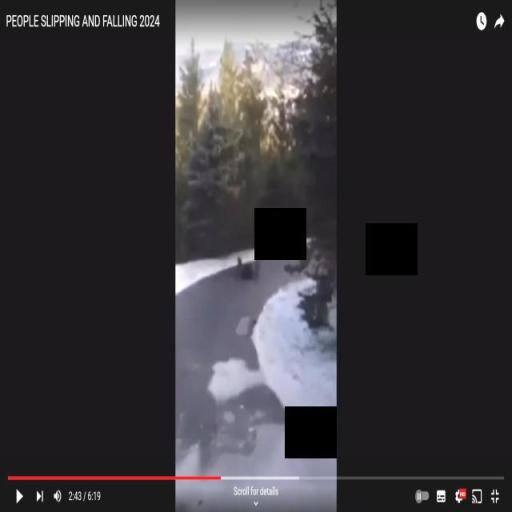Fall: (232, 250, 265, 284)
